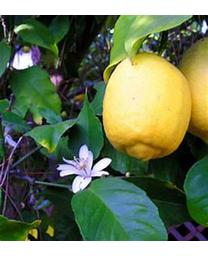lemon: (102, 53, 190, 162)
